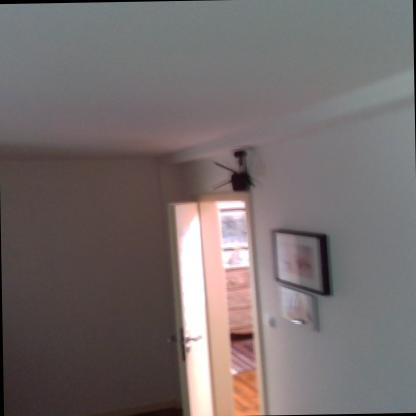semi: (156, 185, 273, 416)
